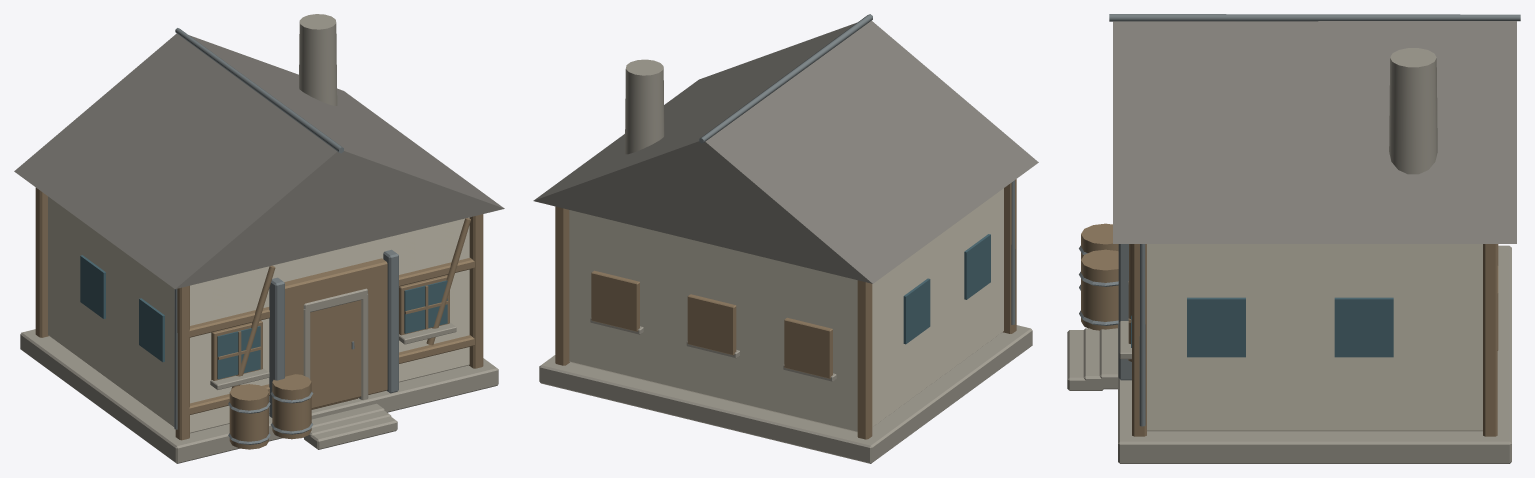
Rendered from bld_depot_a03.glb.
The picture shows the model from 3 angles, left to right: view 1: azimuth 30°, elevation 25°; view 2: azimuth 150°, elevation 25°; view 3: azimuth 270°, elevation 25°; orthographic projection. The views are drawn at different scales.
Visible parts, largest first — view 1: bld_depot_a03; view 2: bld_depot_a03; view 3: bld_depot_a03.
Part boxes in pixels (x1=…): bld_depot_a03: x1=14, y1=14, x2=504, y2=463; bld_depot_a03: x1=533, y1=14, x2=1038, y2=463; bld_depot_a03: x1=1067, y1=14, x2=1520, y2=463.
Bounding box in the file's own units: 3.88 × 3.31 × 3.68.
